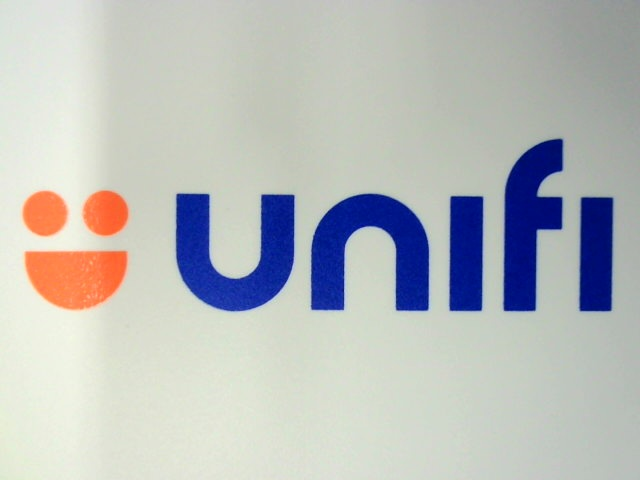BN_unifi: (5, 133, 623, 325)
